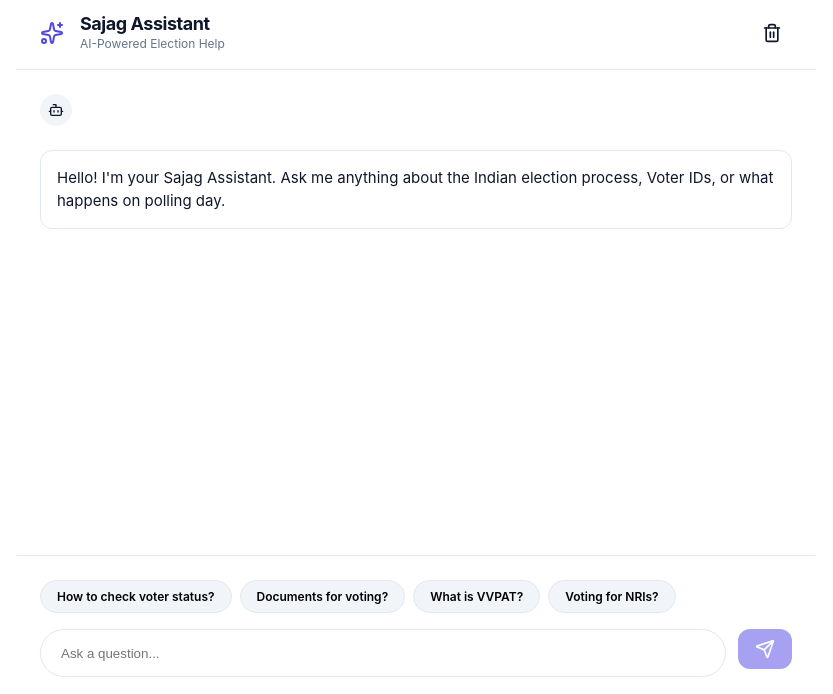
Assistant Flow Integration › handles malicious input rejection from API
This screenshot has width=833, height=694.
Type "a" into the field with placeholder "Ask a question..." at (383, 653), box [40,629,726,677]
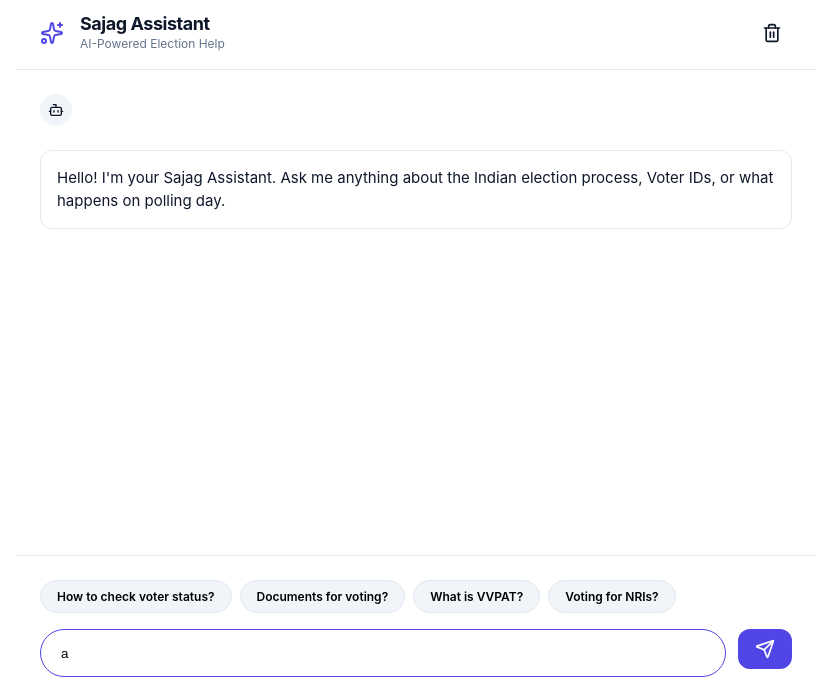
Press Enter in the field with placeholder "Ask a question...", box [40,629,726,677]
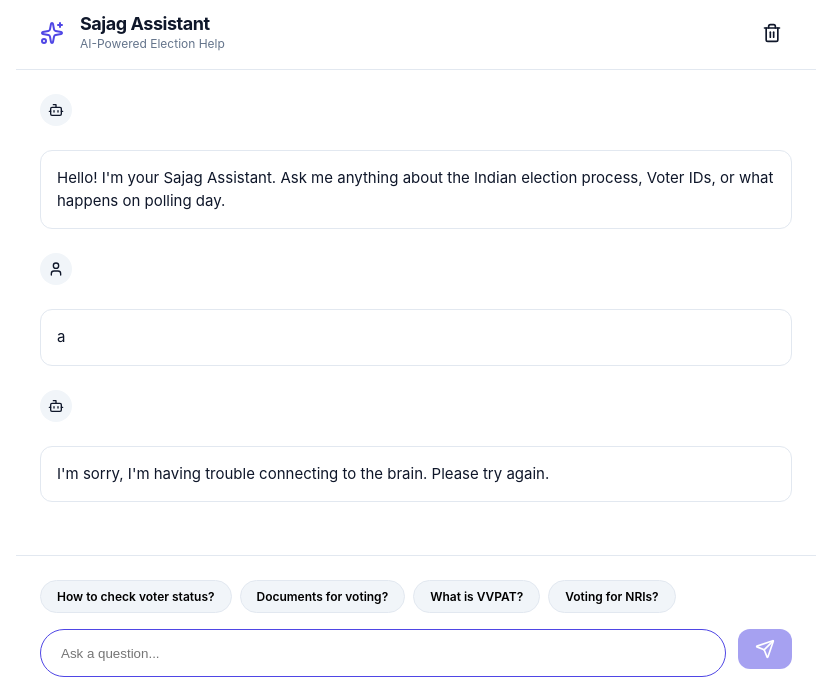
Expected: the text "I'm sorry, I'm having trouble connecting" is shown, [57,464,549,482]
